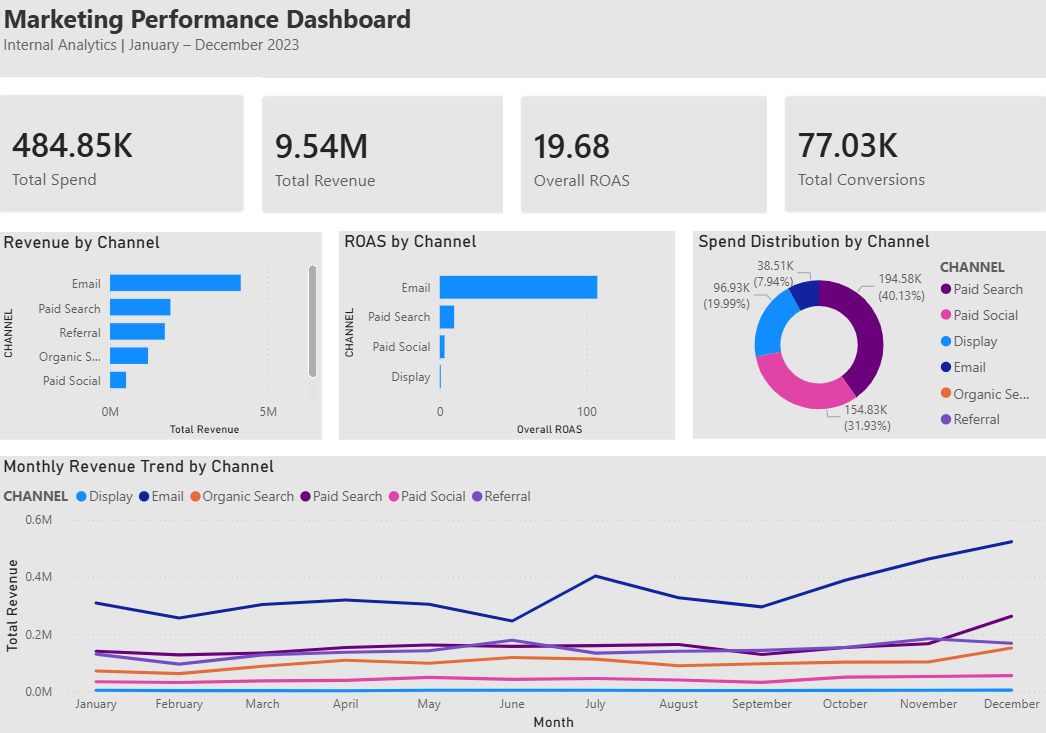

The dashboard page shown, as its layout file describes it:
{"tool":"powerbi","page":{"name":" Executive Summary","canvas":[1280,720],"ordinal":0},"visuals":[{"type":"textbox","box":[16.5,0,1023.2,87.5],"z":0},{"type":"cardVisual","fields":{"Data":["FACT_CAMPAIGN_PERFORMANCE.Total Spend"]},"box":[0,78.8,273.3,149.8],"z":1000},{"type":"cardVisual","fields":{"Data":["FACT_CAMPAIGN_PERFORMANCE.Total Revenue"]},"box":[255.8,79.8,272.3,149.8],"z":2000},{"type":"cardVisual","fields":{"Data":["FACT_CAMPAIGN_PERFORMANCE.Overall ROAS"]},"box":[507.7,79.8,275.3,149.8],"z":3000},{"type":"cardVisual","fields":{"Data":["FACT_CAMPAIGN_PERFORMANCE.Total Conversions"]},"box":[764.5,79.8,290.8,148.8],"z":4000},{"type":"clusteredBarChart","title":"Revenue by Channel","fields":{"Category":["DIM_CHANNEL.CHANNEL"],"Y":["FACT_CAMPAIGN_PERFORMANCE.Total Revenue"]},"box":[16.5,229.5,315.1,202.3],"z":5000},{"type":"clusteredBarChart","title":"ROAS by Channel","fields":{"Category":["DIM_CHANNEL.CHANNEL"],"Y":["FACT_CAMPAIGN_PERFORMANCE.Overall ROAS"]},"box":[348.2,228.6,326.8,203.3],"z":6000},{"type":"lineChart","title":"Monthly Revenue Trend by Channel","fields":{"Category":["DIM_DATE.MONTH_NAME"],"Y":["FACT_CAMPAIGN_PERFORMANCE.Total Revenue"],"Series":["DIM_CHANNEL.CHANNEL"]},"box":[16.5,447.4,1023.2,272.3],"z":7000},{"type":"donutChart","title":"Spend Distribution by Channel","fields":{"Category":["DIM_CHANNEL.CHANNEL"],"Y":["FACT_CAMPAIGN_PERFORMANCE.Total Spend"]},"box":[692.5,228.6,347.2,202.3],"z":8000}]}

Visuals, with their boxes on the page's 1280x720 design canvas (x1, y1, x2, y2). These are canvas units, not pixel positions in the 1046x733 screenshot, which may show the page scaled, cropped or inside an application window:
textbox: pyautogui.locateOnScreen(16, 0, 1040, 88)
cardVisual - FACT_CAMPAIGN_PERFORMANCE.Total Spend: pyautogui.locateOnScreen(0, 79, 273, 229)
cardVisual - FACT_CAMPAIGN_PERFORMANCE.Total Revenue: pyautogui.locateOnScreen(256, 80, 528, 230)
cardVisual - FACT_CAMPAIGN_PERFORMANCE.Overall ROAS: pyautogui.locateOnScreen(508, 80, 783, 230)
cardVisual - FACT_CAMPAIGN_PERFORMANCE.Total Conversions: pyautogui.locateOnScreen(764, 80, 1055, 229)
"Revenue by Channel" clusteredBarChart: pyautogui.locateOnScreen(16, 230, 332, 432)
"ROAS by Channel" clusteredBarChart: pyautogui.locateOnScreen(348, 229, 675, 432)
"Monthly Revenue Trend by Channel" lineChart: pyautogui.locateOnScreen(16, 447, 1040, 720)
"Spend Distribution by Channel" donutChart: pyautogui.locateOnScreen(692, 229, 1040, 431)
